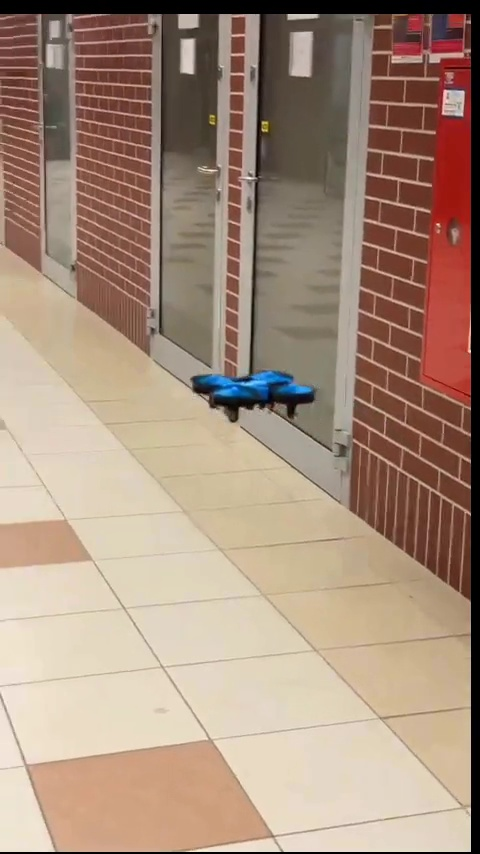drone: (192, 374, 319, 419)
